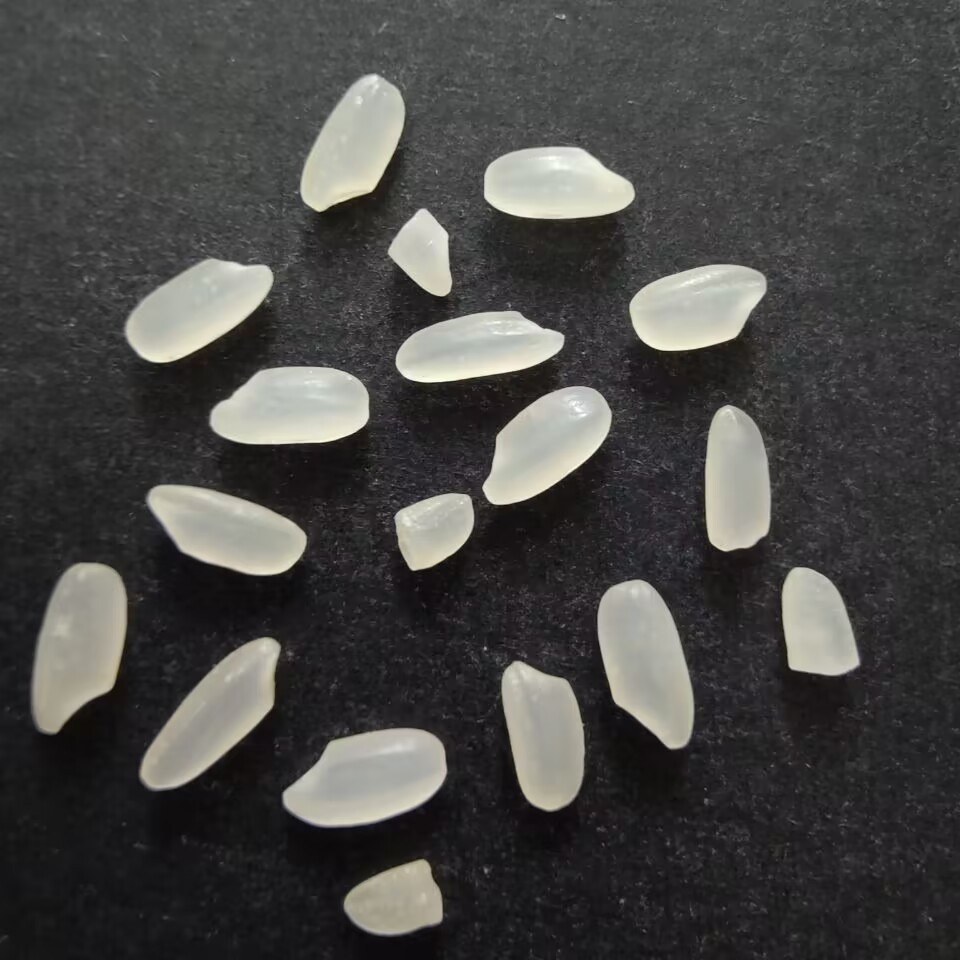broken: (778, 560, 861, 681), (337, 855, 448, 942), (382, 205, 458, 300), (392, 489, 477, 573)
rice: (138, 633, 287, 794), (27, 558, 134, 741), (278, 723, 453, 832), (596, 577, 698, 754), (122, 251, 277, 367), (144, 480, 311, 579), (482, 384, 616, 506), (297, 70, 406, 216), (206, 361, 376, 448), (497, 658, 590, 817), (390, 305, 568, 387), (629, 262, 773, 354), (478, 144, 639, 222), (703, 400, 775, 556)
